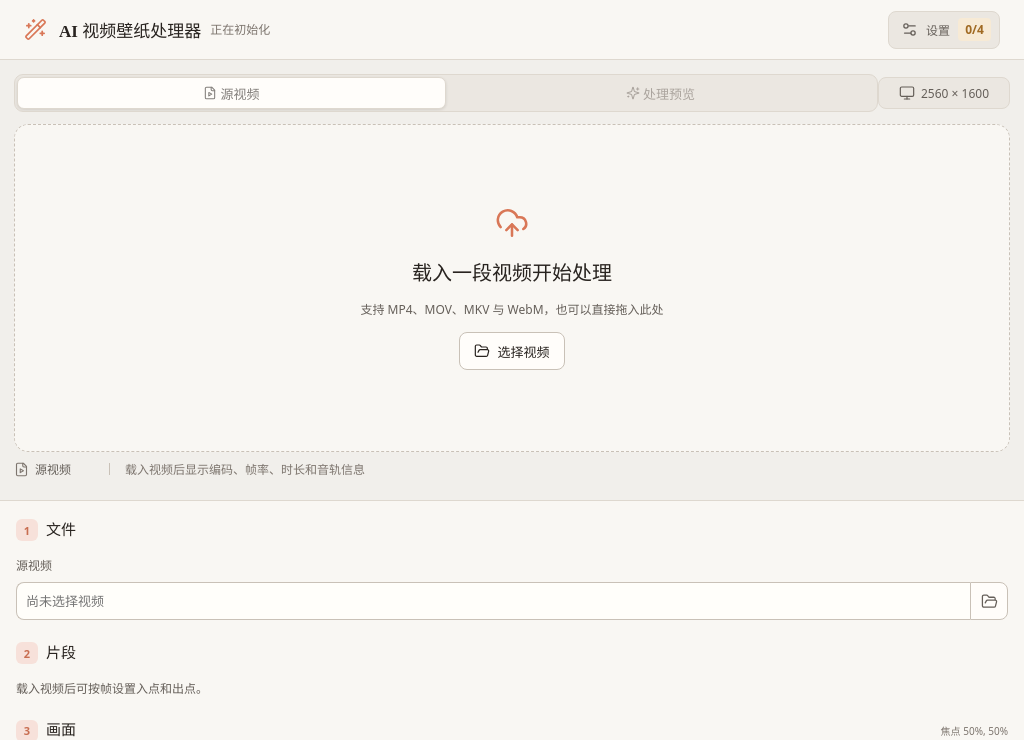
Test: desktop processing controls › shows conservative quality warnings and keeps RIFE disabled by default
Click the button named "选择源视频". click: click(989, 601)
box: [970,582,1008,620]
(page scrolled)
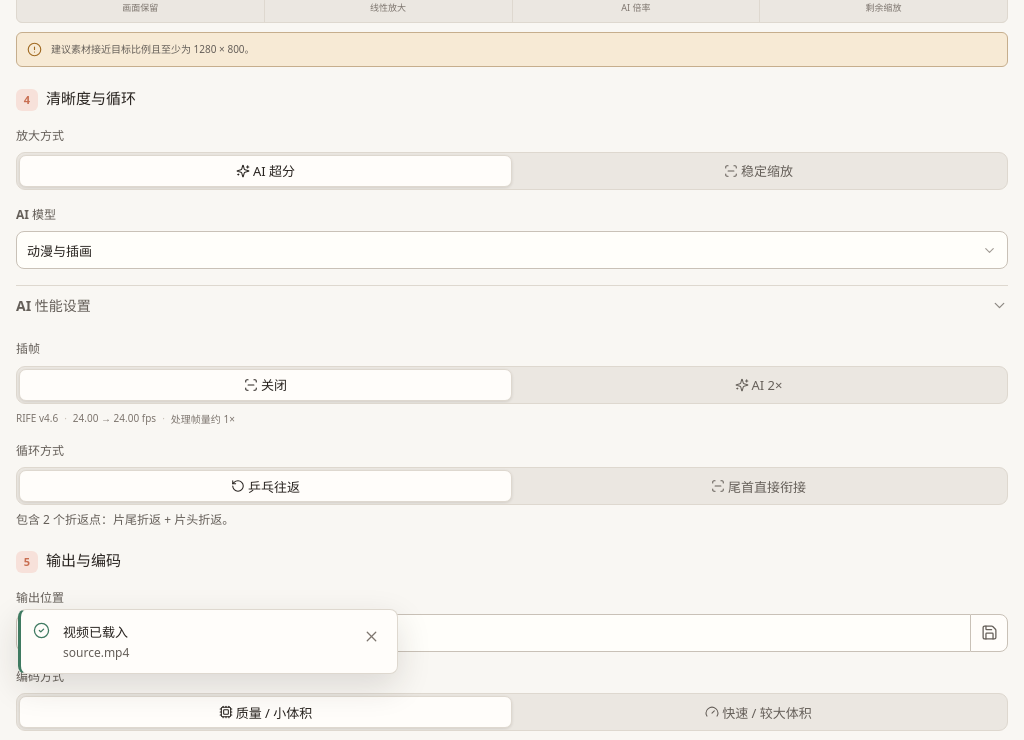
Expected: the text "建议素材接近目标比例且至少为 1280 × 800。" is shown, [51,42,255,56]
Click the button "AI 2×". click: click(758, 385)
box: [512,369,1005,401]
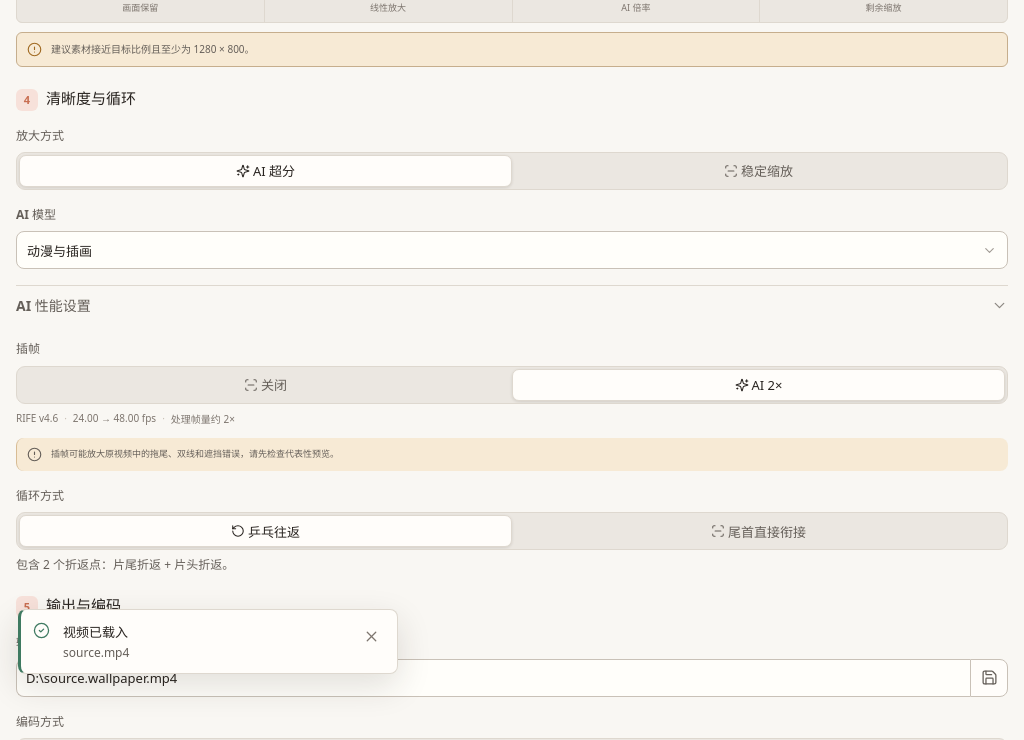
Expected: the text "插帧可能放大原视频中的拖尾、双线和遮挡错误，请先检查代表性预览。" is shown, [51,447,339,460]
